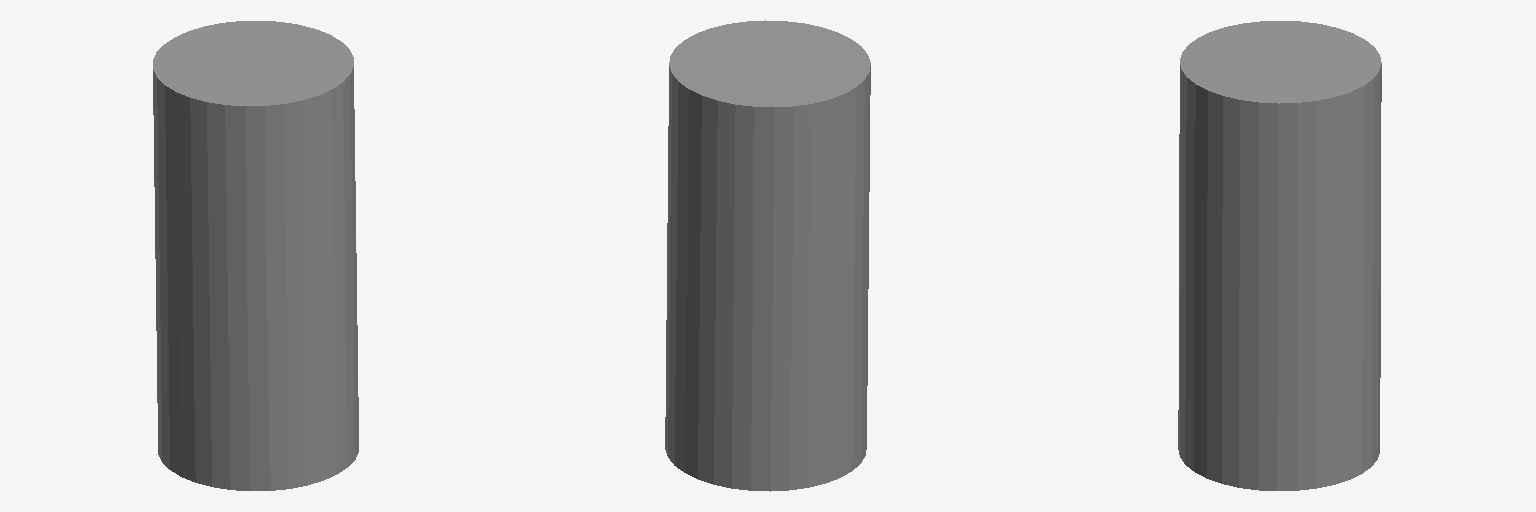
File: kui.model.obj
3 views of the same model, side by side, from view 1: azimuth 30°, elevation 25°; view 2: azimuth 150°, elevation 25°; view 3: azimuth 270°, elevation 25° (orthographic).
Visible parts, largest first — view 1: Cilindro.001; view 2: Cilindro.001; view 3: Cilindro.001.
Part boxes in pixels (left/top/right/bottom): Cilindro.001: left=153, top=21, right=358, bottom=490; Cilindro.001: left=665, top=20, right=870, bottom=491; Cilindro.001: left=1178, top=21, right=1381, bottom=490.
Size of the model in its own units: 2.05 by 4.24 by 2.01.